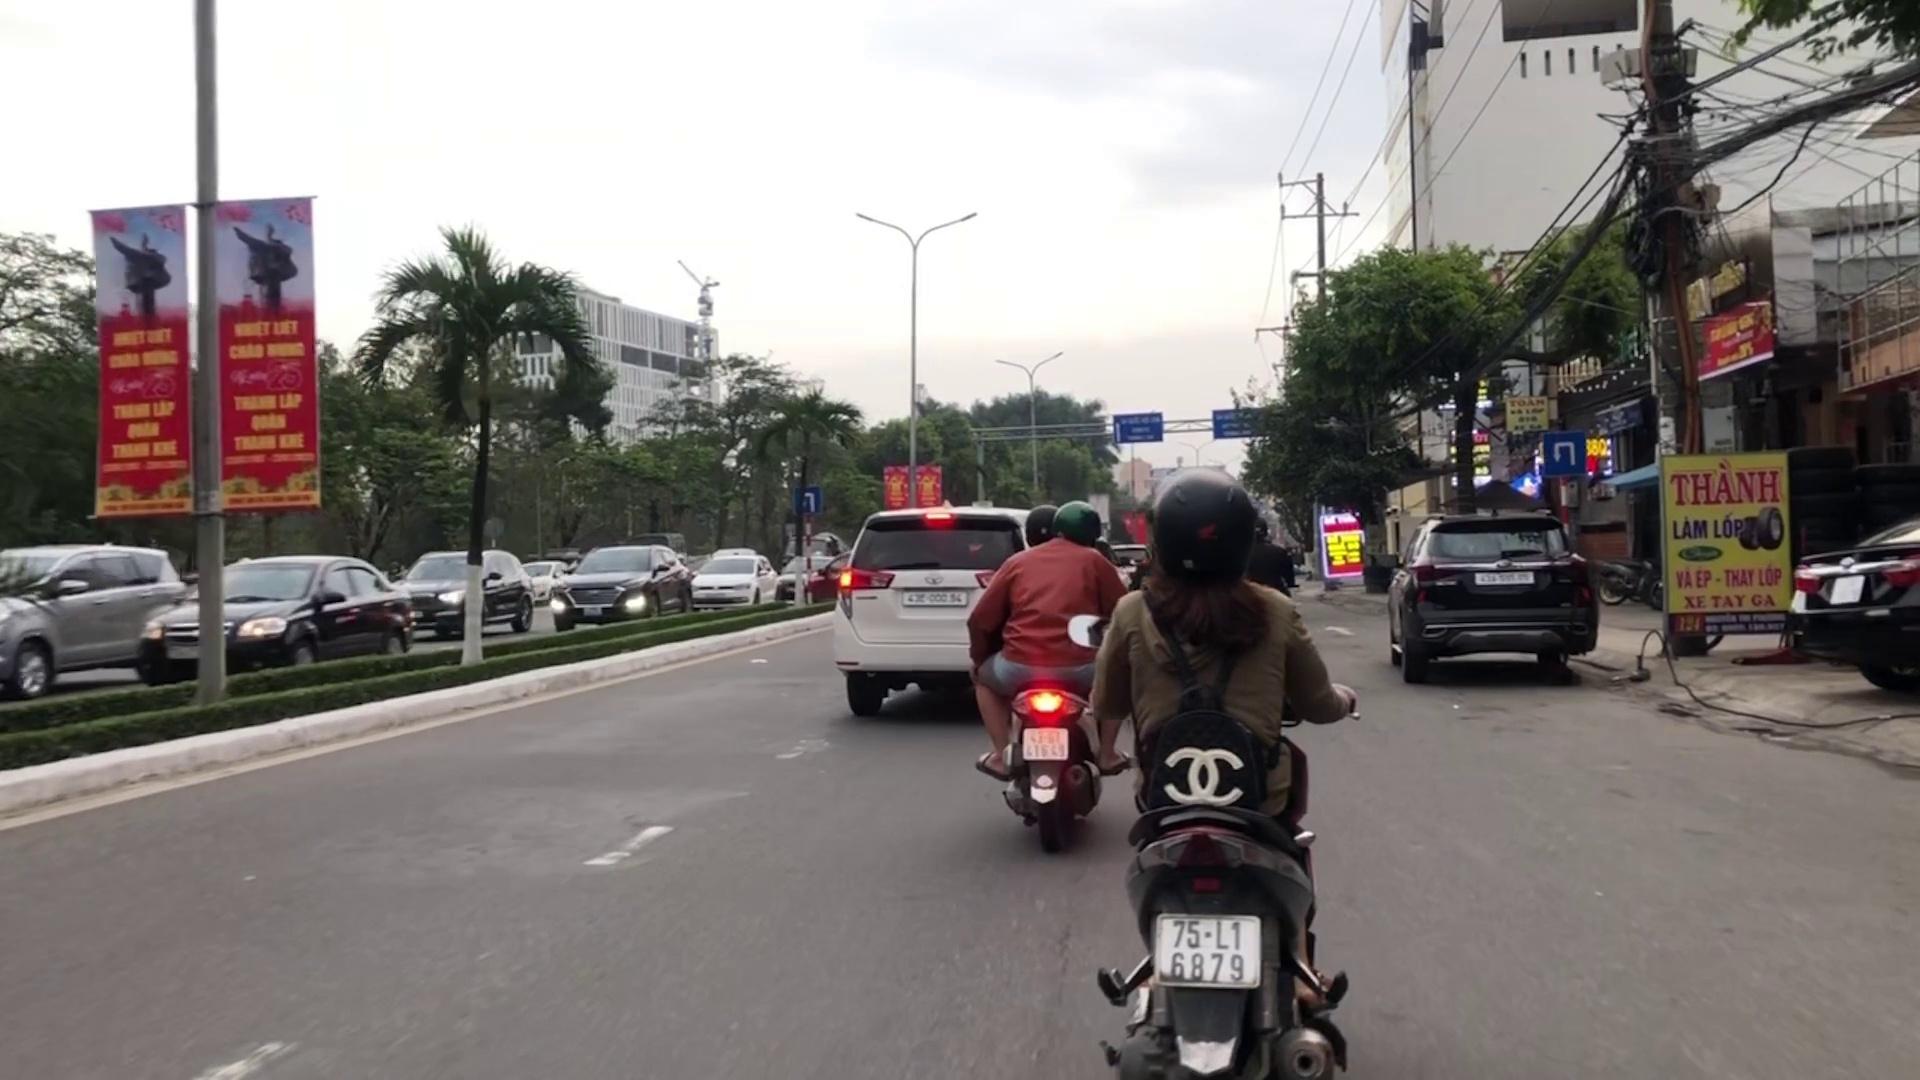Bien khac: (1543, 427, 1586, 477), (794, 487, 820, 512)
